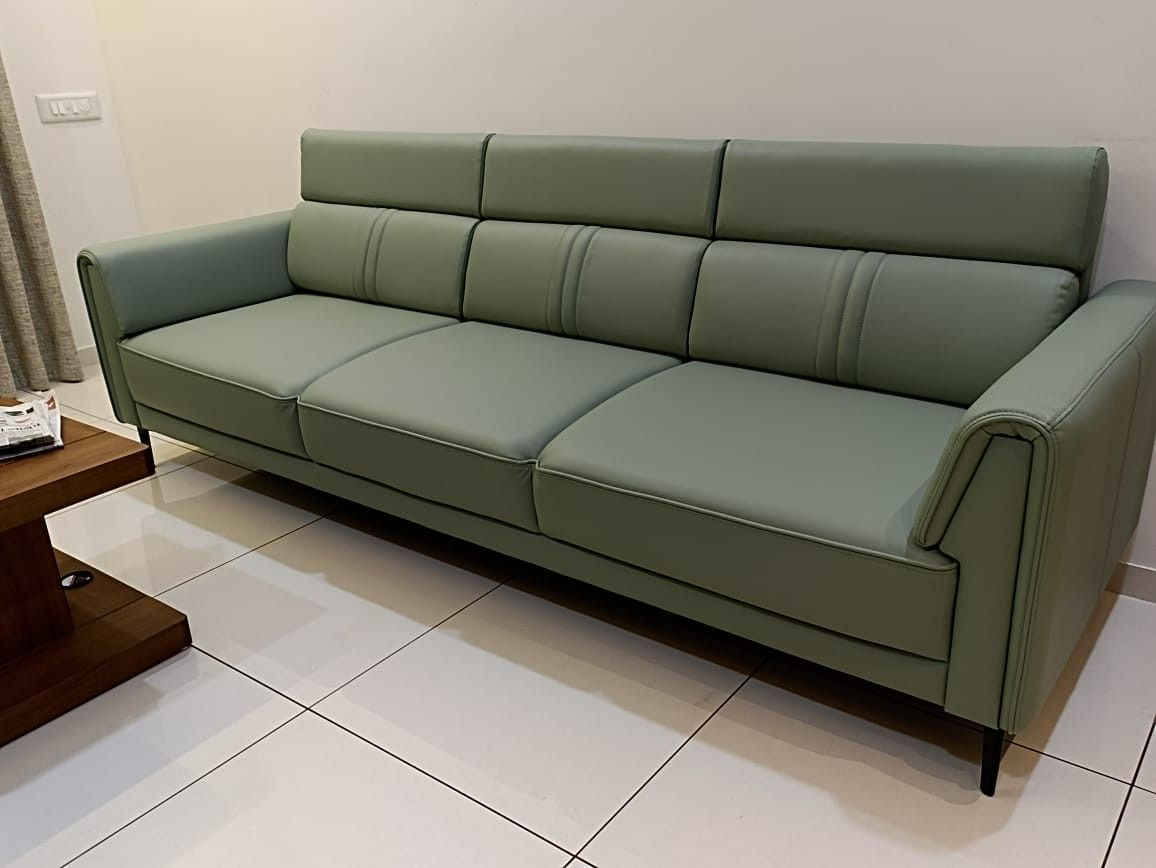3seatersofa: (78, 129, 1155, 795)
backrest: (287, 130, 1107, 404)
base: (140, 410, 946, 700)
leftarmrest: (910, 280, 1155, 731)
leg: (980, 727, 1003, 796), (137, 427, 154, 471)
rightarmrest: (78, 211, 292, 426)
seat: (119, 294, 959, 658)
